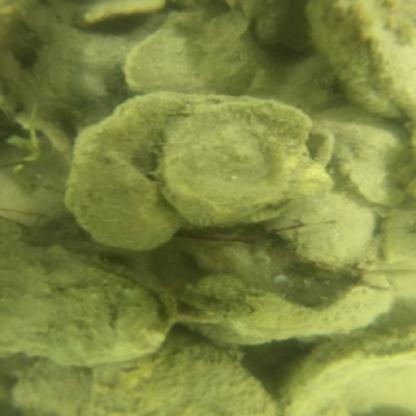Oyster-Closed: (2, 234, 164, 367), (69, 93, 181, 251), (94, 329, 274, 414), (311, 0, 415, 118), (283, 320, 413, 410), (125, 21, 257, 93), (292, 191, 375, 271), (12, 360, 90, 414), (191, 274, 246, 312), (386, 209, 409, 268)
Oyster-Open: (162, 96, 332, 222)
